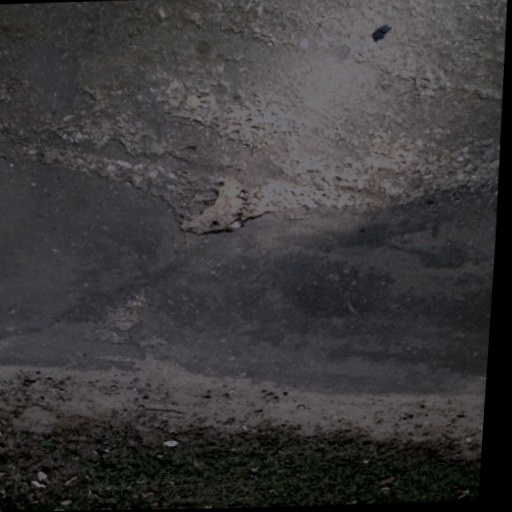pothole: (174, 174, 253, 239)
